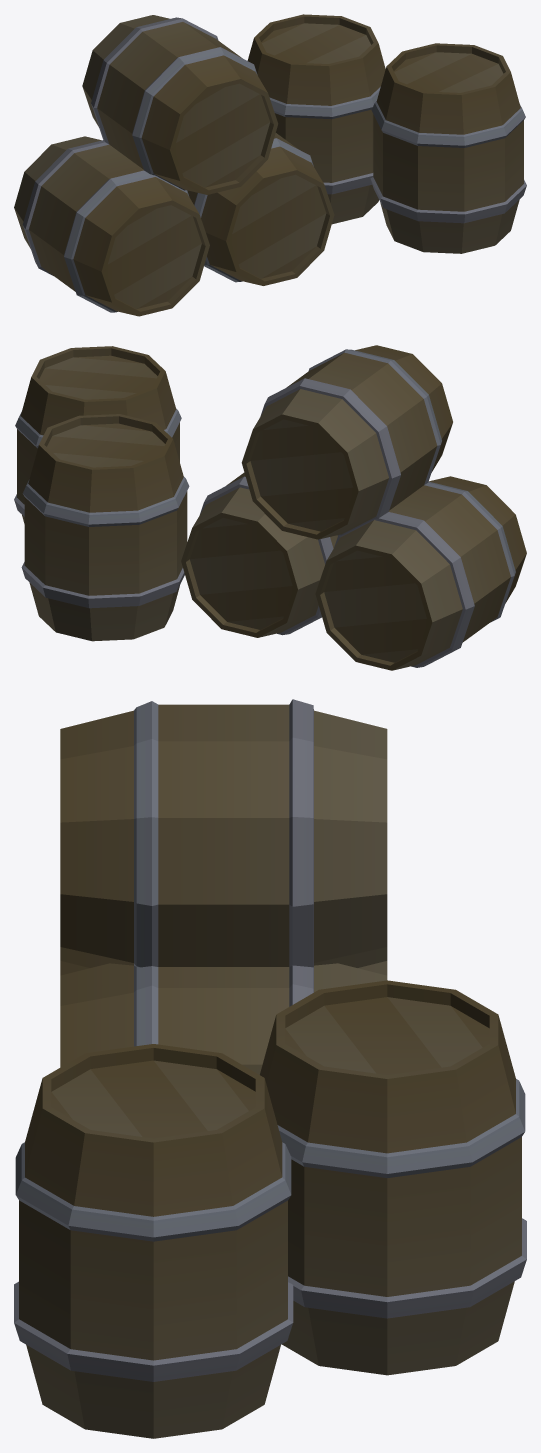
Rendered from Barrel_1D.fbx.
The picture shows the model from 3 angles, top to bottom: view 1: azimuth 30°, elevation 25°; view 2: azimuth 150°, elevation 25°; view 3: azimuth 270°, elevation 25°; orthographic projection. The views are drawn at different scales.
Visible parts, largest first — view 1: polySurface9637; view 2: polySurface9637; view 3: polySurface9637.
Part boxes in pixels (<box>): polySurface9637: <box>14,14,526,316</box>; polySurface9637: <box>14,345,526,670</box>; polySurface9637: <box>14,699,526,1438</box>.
Size of the model in its own units: 503 by 254 by 264.
